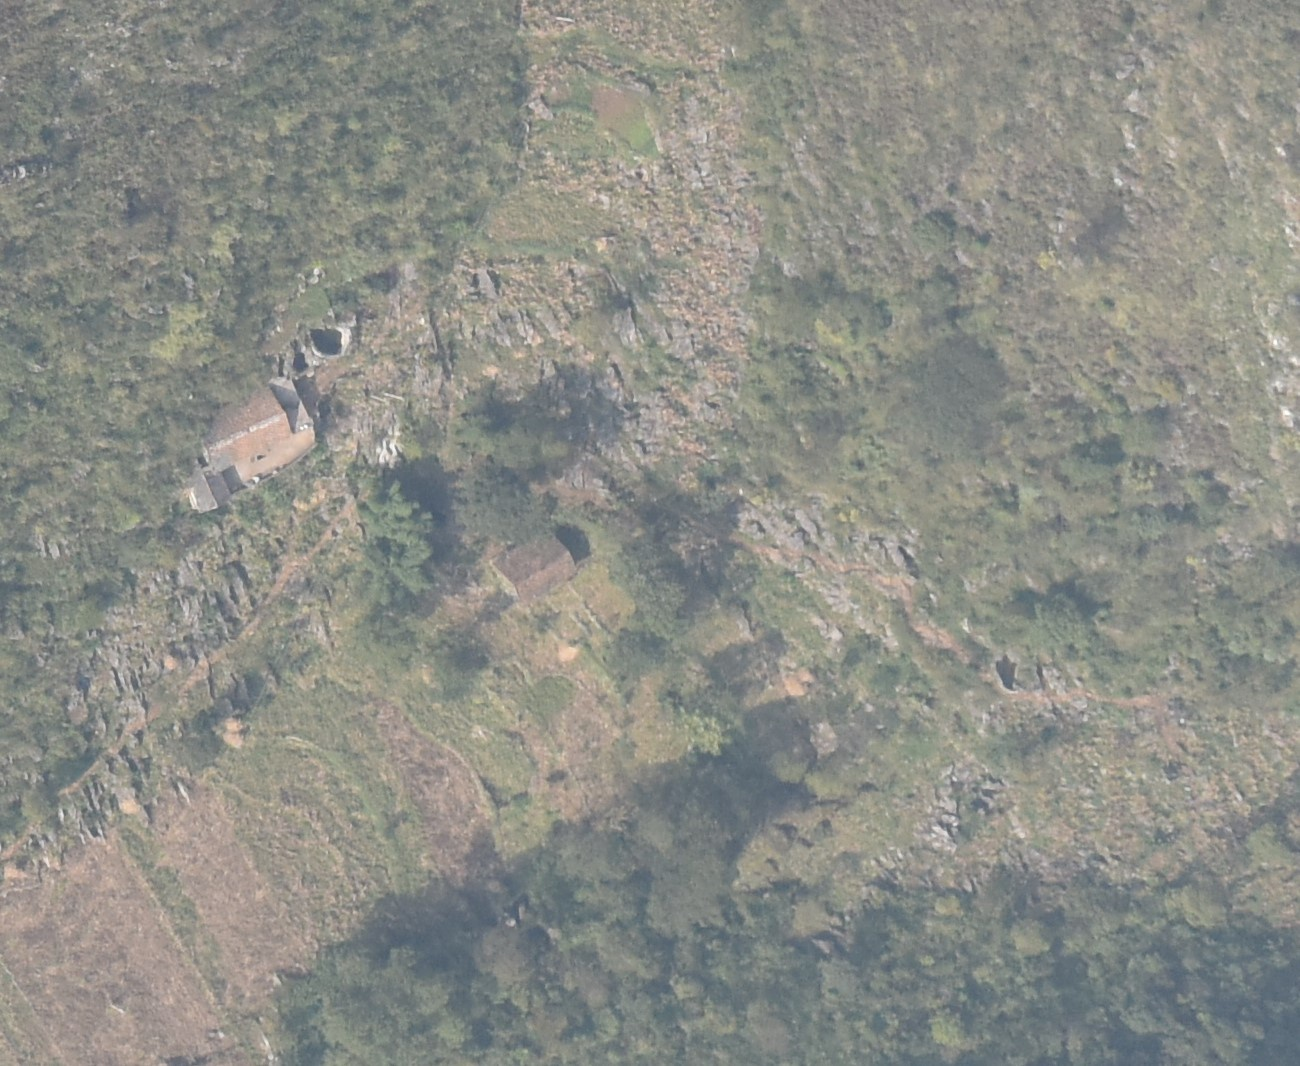building: (184, 377, 318, 511), (490, 533, 578, 603)
